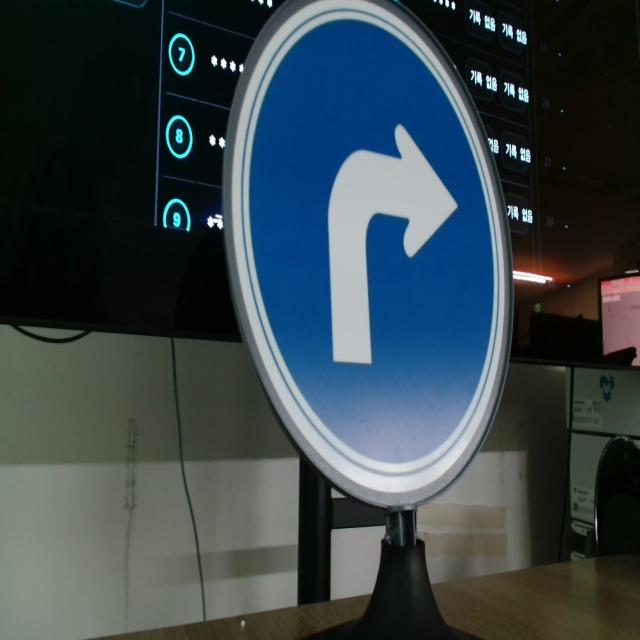right_dierection: (229, 0, 515, 523)
